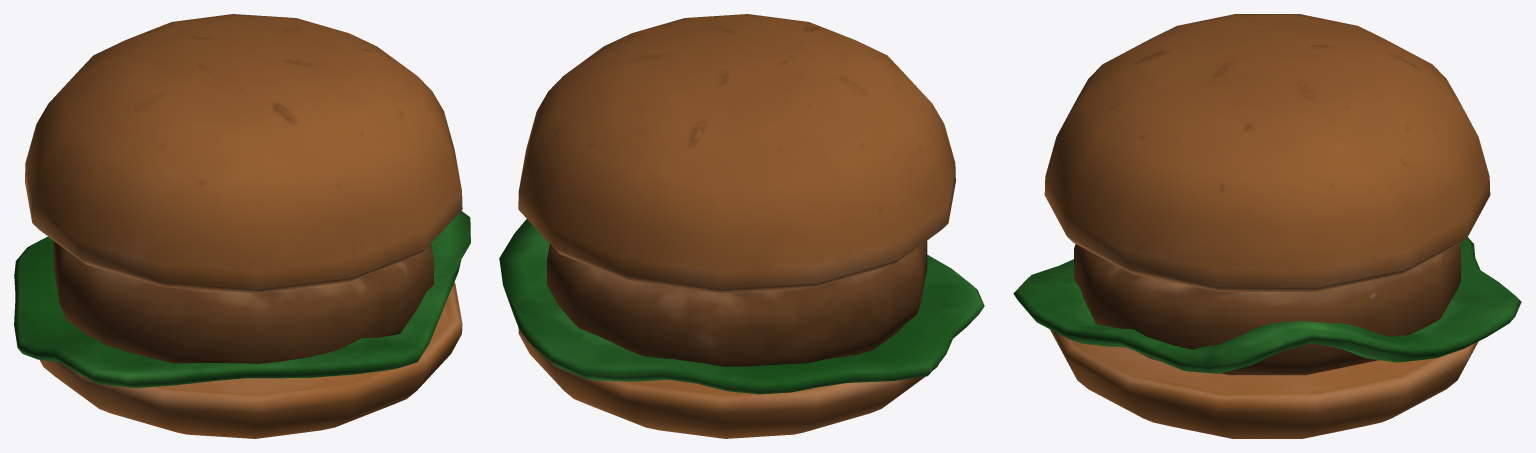
Rendered from MSH_Hamburgiesa_P_C_L_J.fbx.
The picture shows the model from 3 angles, left to right: view 1: azimuth 30°, elevation 25°; view 2: azimuth 150°, elevation 25°; view 3: azimuth 270°, elevation 25°; orthographic projection.
Visible parts, largest first — view 1: MSH_Hamburgiesa_P_C_L_J; view 2: MSH_Hamburgiesa_P_C_L_J; view 3: MSH_Hamburgiesa_P_C_L_J.
Boxes of the visible parts, x1=… form: MSH_Hamburgiesa_P_C_L_J: x1=14, y1=14, x2=470, y2=438; MSH_Hamburgiesa_P_C_L_J: x1=499, y1=14, x2=984, y2=438; MSH_Hamburgiesa_P_C_L_J: x1=1013, y1=14, x2=1521, y2=438.
Bounding box in the file's own units: 16.25 × 16.87 × 12.01.
Materials: 1 (1 with a texture image).
